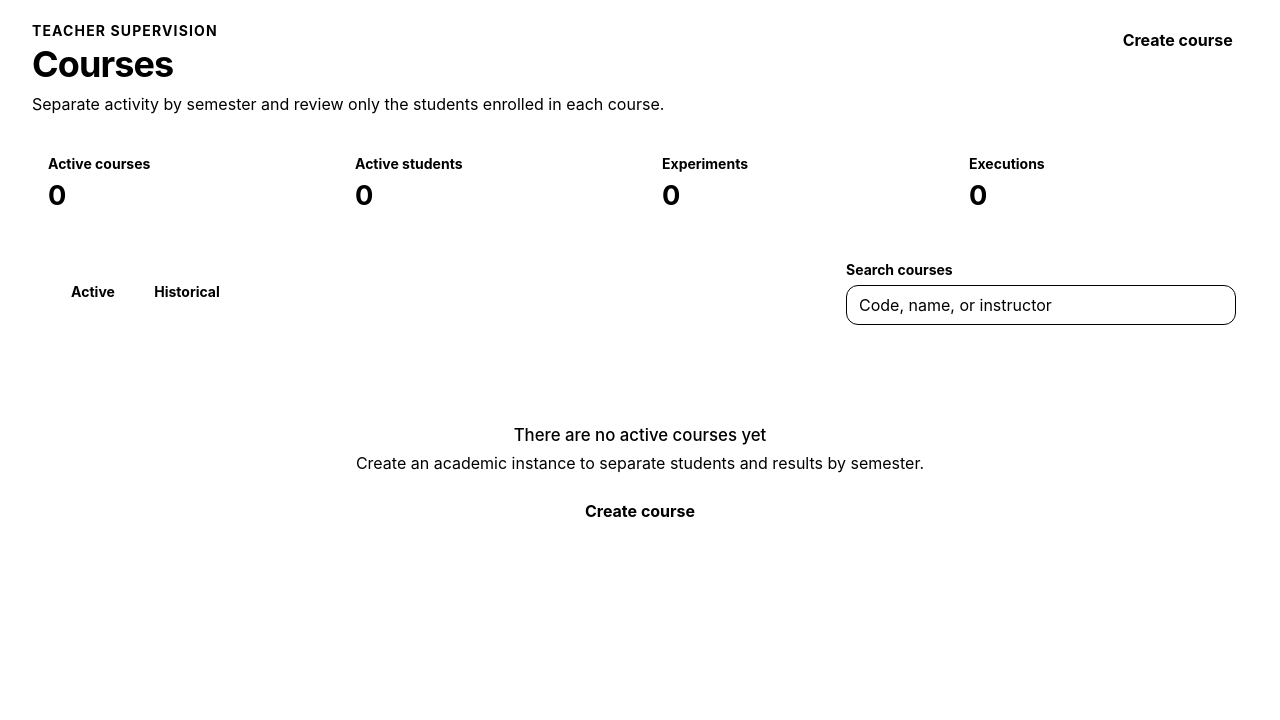
Test case: TeacherCourses Iteration 3 contracts › historical courses use registered totals in the summary and card
The image size is (1280, 720).
What coordinates should you click on to do the following:
click the button "Historical"
I would click on:
 (187, 292)
Its box is [141, 274, 233, 310].
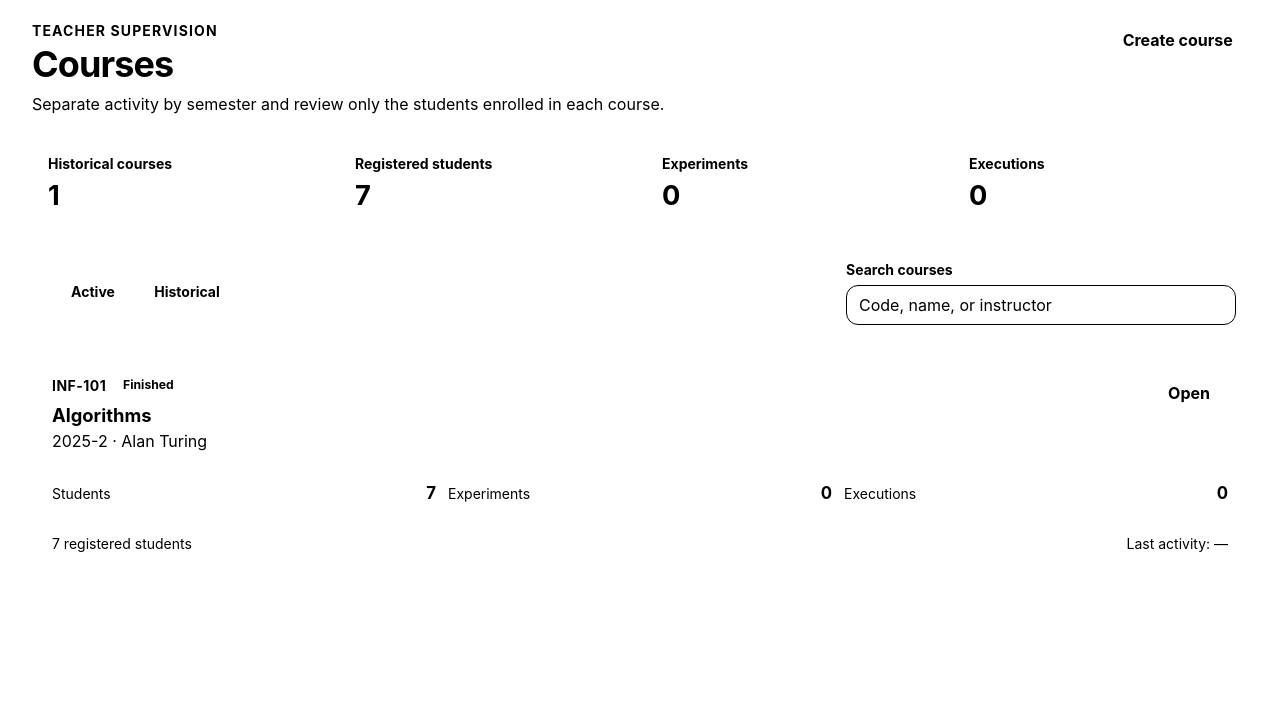
Expected: the text "7" below "Historical courses" is shown, [355, 179, 371, 212]
Expected: the text "7 registered students" is shown, [52, 534, 192, 554]
